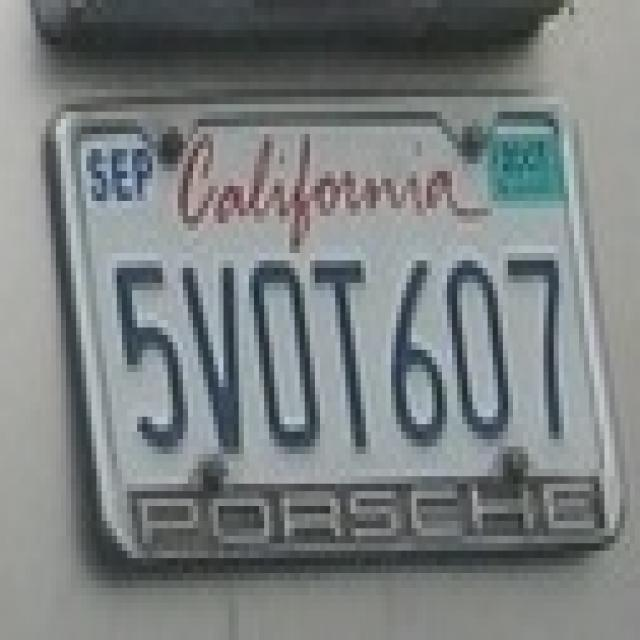licenseplate: (38, 82, 624, 590)
